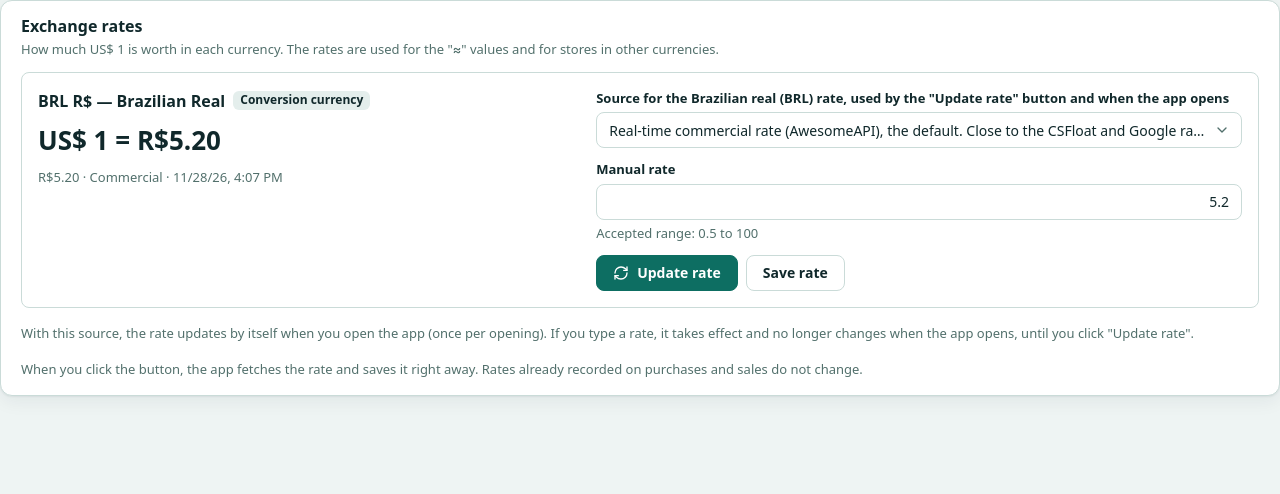
Test: Cotações › "1,250" ambíguo oferece "usar 1,25" e "usar 1250" no campo da cotação
The width and height of the screenshot is (1280, 494).
Replace the text in the field labelled "Manual rate" with "1,250" at (919, 202), box top-left (609, 185), bottom-right (1229, 219)
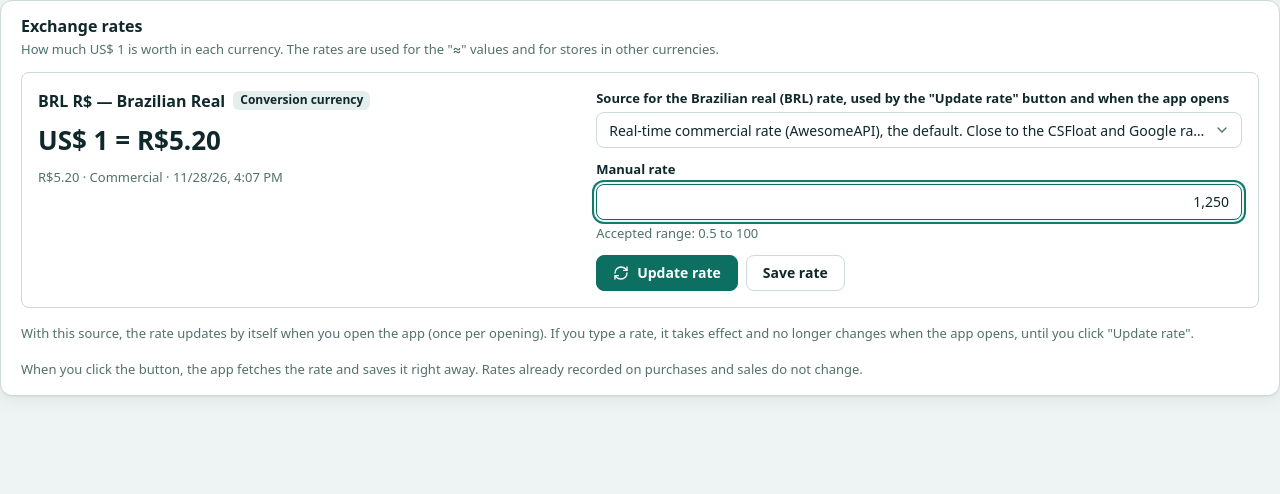
Press Tab
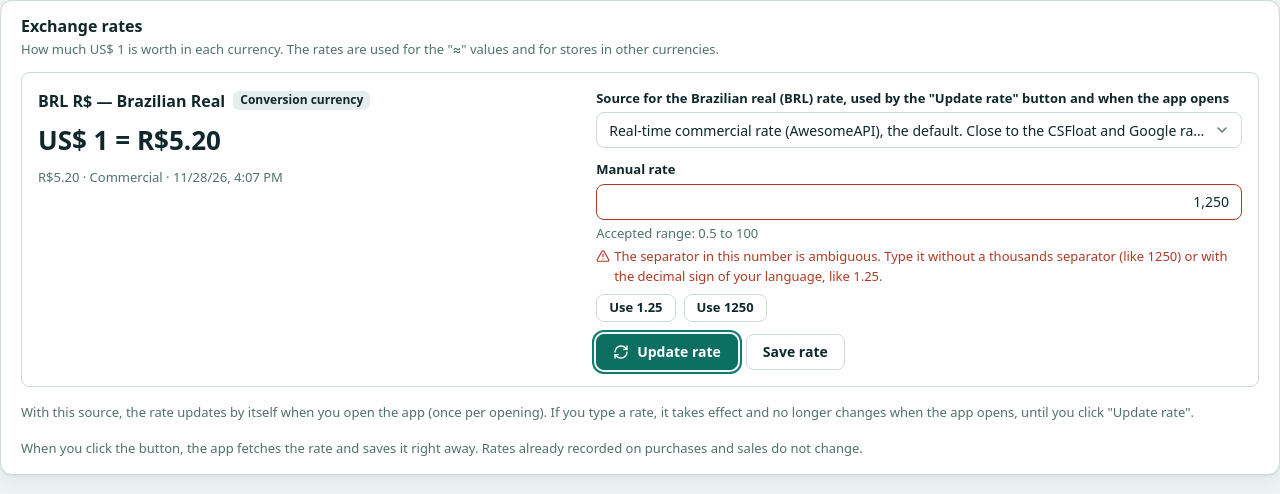
expect the button "Use 1.25" is shown: met, box top-left (596, 294), bottom-right (676, 322)
expect the button "Use 1250" is shown: met, box top-left (684, 294), bottom-right (767, 322)
